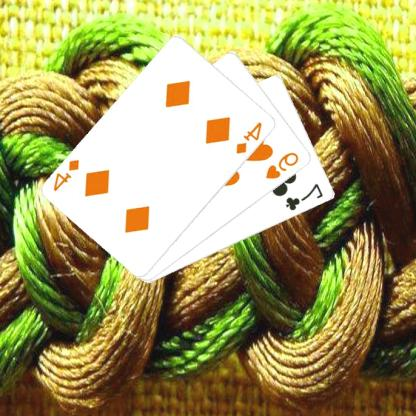4D: (52, 156, 83, 193), (235, 119, 266, 155)
7C: (284, 181, 327, 212)
9H: (265, 149, 303, 181)
